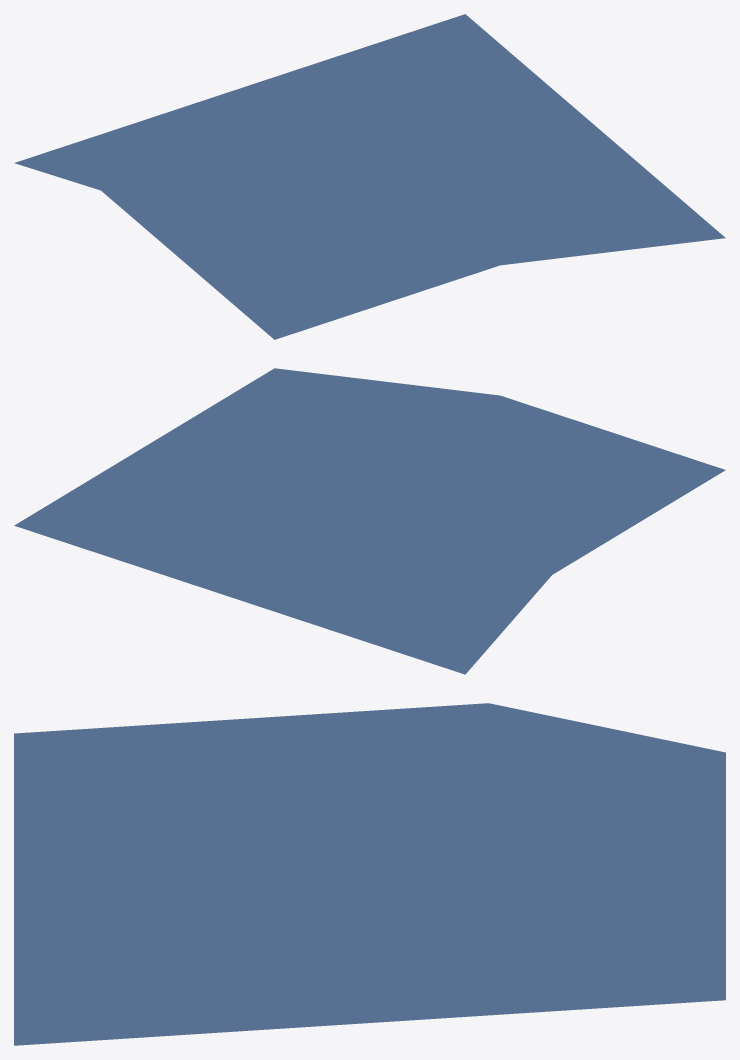
File: one-texture.glb
3 views of the same model, one above another, from view 1: azimuth 30°, elevation 25°; view 2: azimuth 150°, elevation 25°; view 3: azimuth 270°, elevation 25° (orthographic). The views are drawn at different scales.
Parts seen in each view (by area): view 1: panel; view 2: panel; view 3: panel.
Part boxes in pixels (x1=…): panel: x1=14, y1=14, x2=725, y2=339; panel: x1=14, y1=368, x2=725, y2=674; panel: x1=14, y1=703, x2=725, y2=1045.
Size of the model in its own units: 1 by 0.0941 by 1.
1 material, 1 textured.
